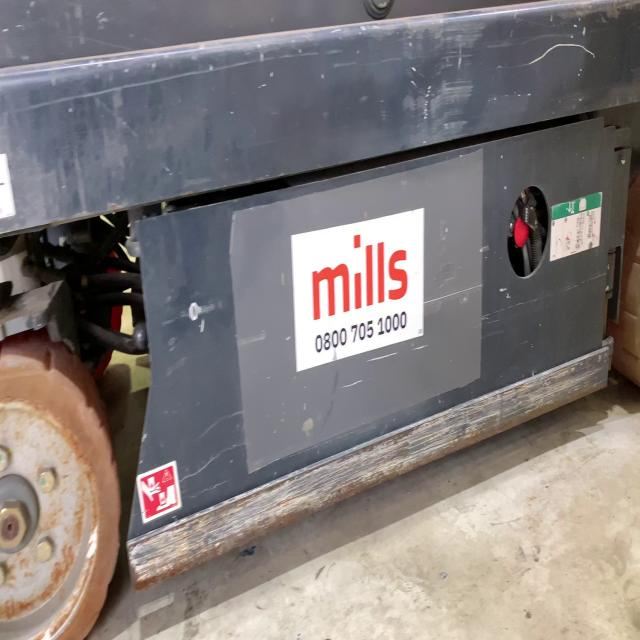Adesivos: (290, 207, 428, 377)
